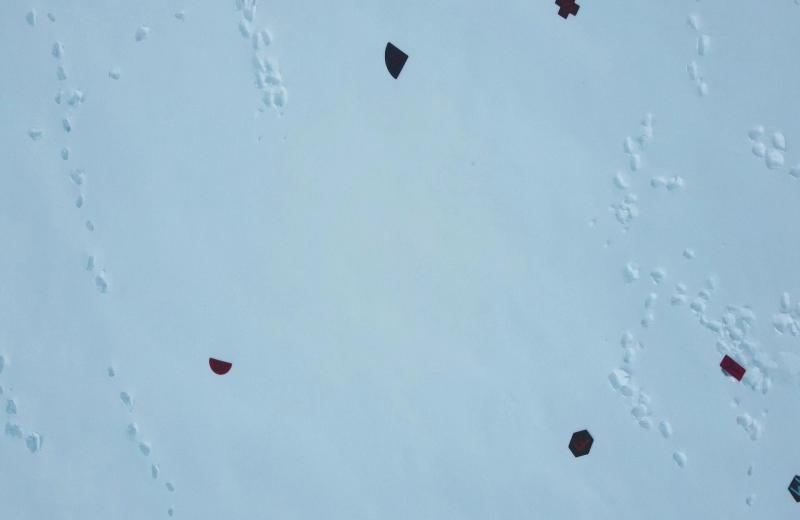Cross: (552, 0, 581, 24)
Hexagon: (566, 427, 597, 462)
Pentagon: (781, 467, 800, 509)
Quarter Circle: (380, 37, 412, 85)
Rectangle: (1, 0, 800, 520), (720, 350, 748, 390)
Semi Circle: (208, 352, 235, 381)
